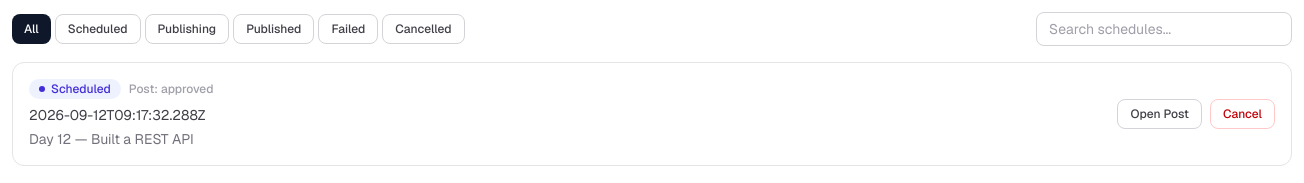
Test: ScheduleList › shows no-match message when a filter excludes everything
Step 1. Click the button "Cancelled" → coordinates (423, 29), box [382, 14, 465, 44]
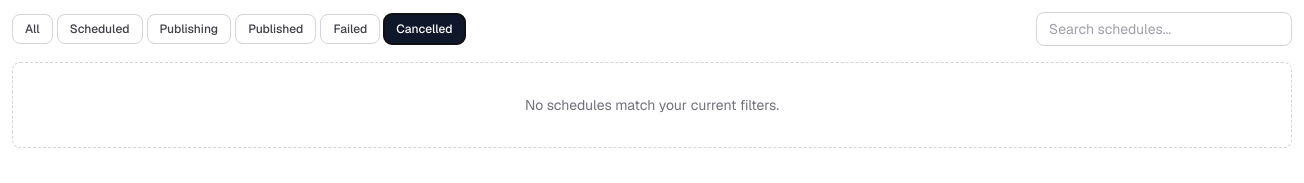
Result: the text "No schedules match your current filters." is shown at [525, 96, 779, 114]
